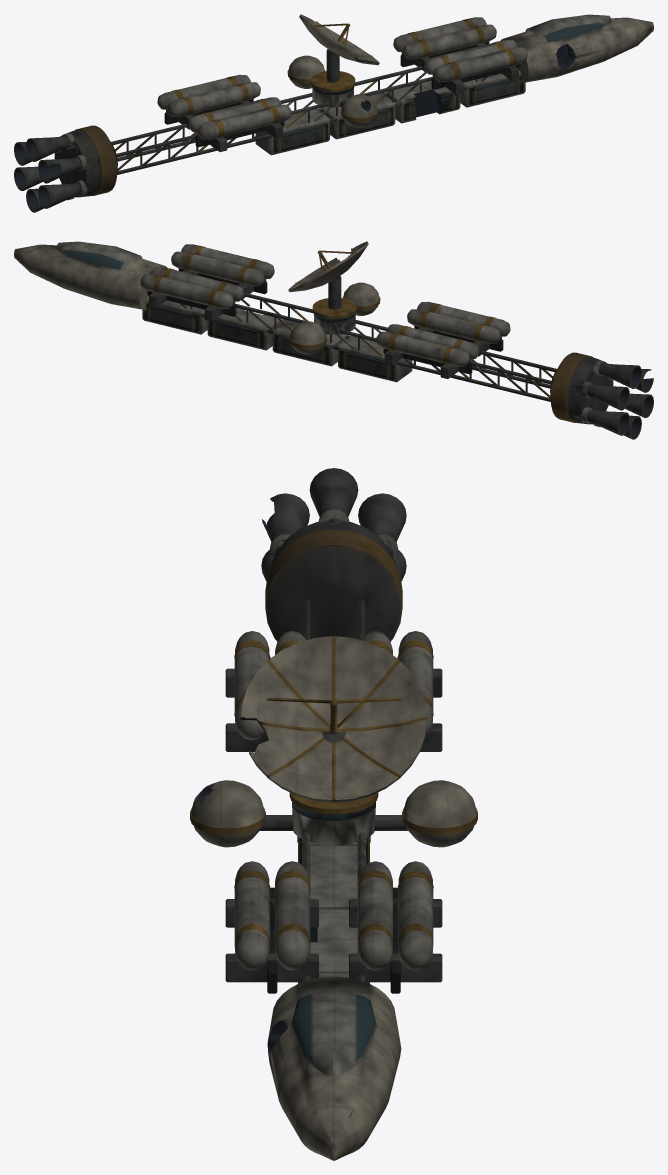
Rendered from spine-wrecked.glb.
3 views of the same model, one above another, from view 1: azimuth 30°, elevation 25°; view 2: azimuth 150°, elevation 25°; view 3: azimuth 270°, elevation 25° (orthographic). The views are drawn at different scales.
Parts seen in each view (by area): view 1: spine-wrecked; view 2: spine-wrecked; view 3: spine-wrecked.
Part boxes in pixels (box(x1,y1,x2,y2)): spine-wrecked: box(14, 14, 653, 212); spine-wrecked: box(14, 241, 653, 439); spine-wrecked: box(190, 468, 477, 1160).
Bounding box in the file's own units: 1 × 0.1902 × 0.201.
1 material, 1 textured.
